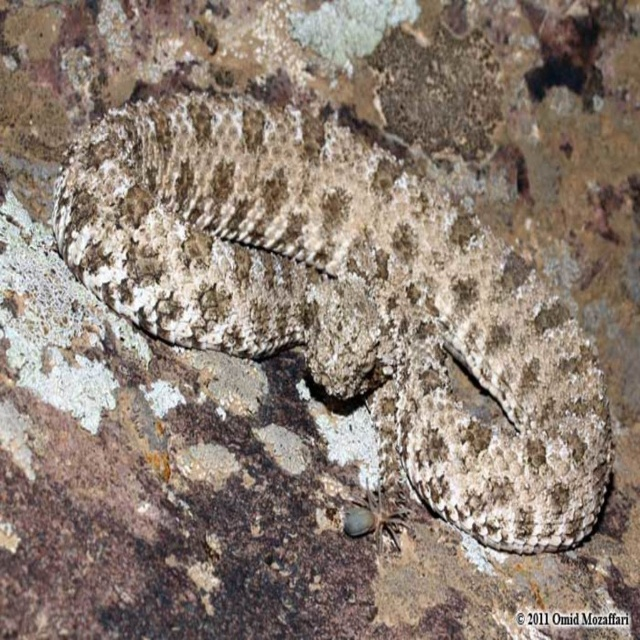Snake: (53, 91, 611, 554)
